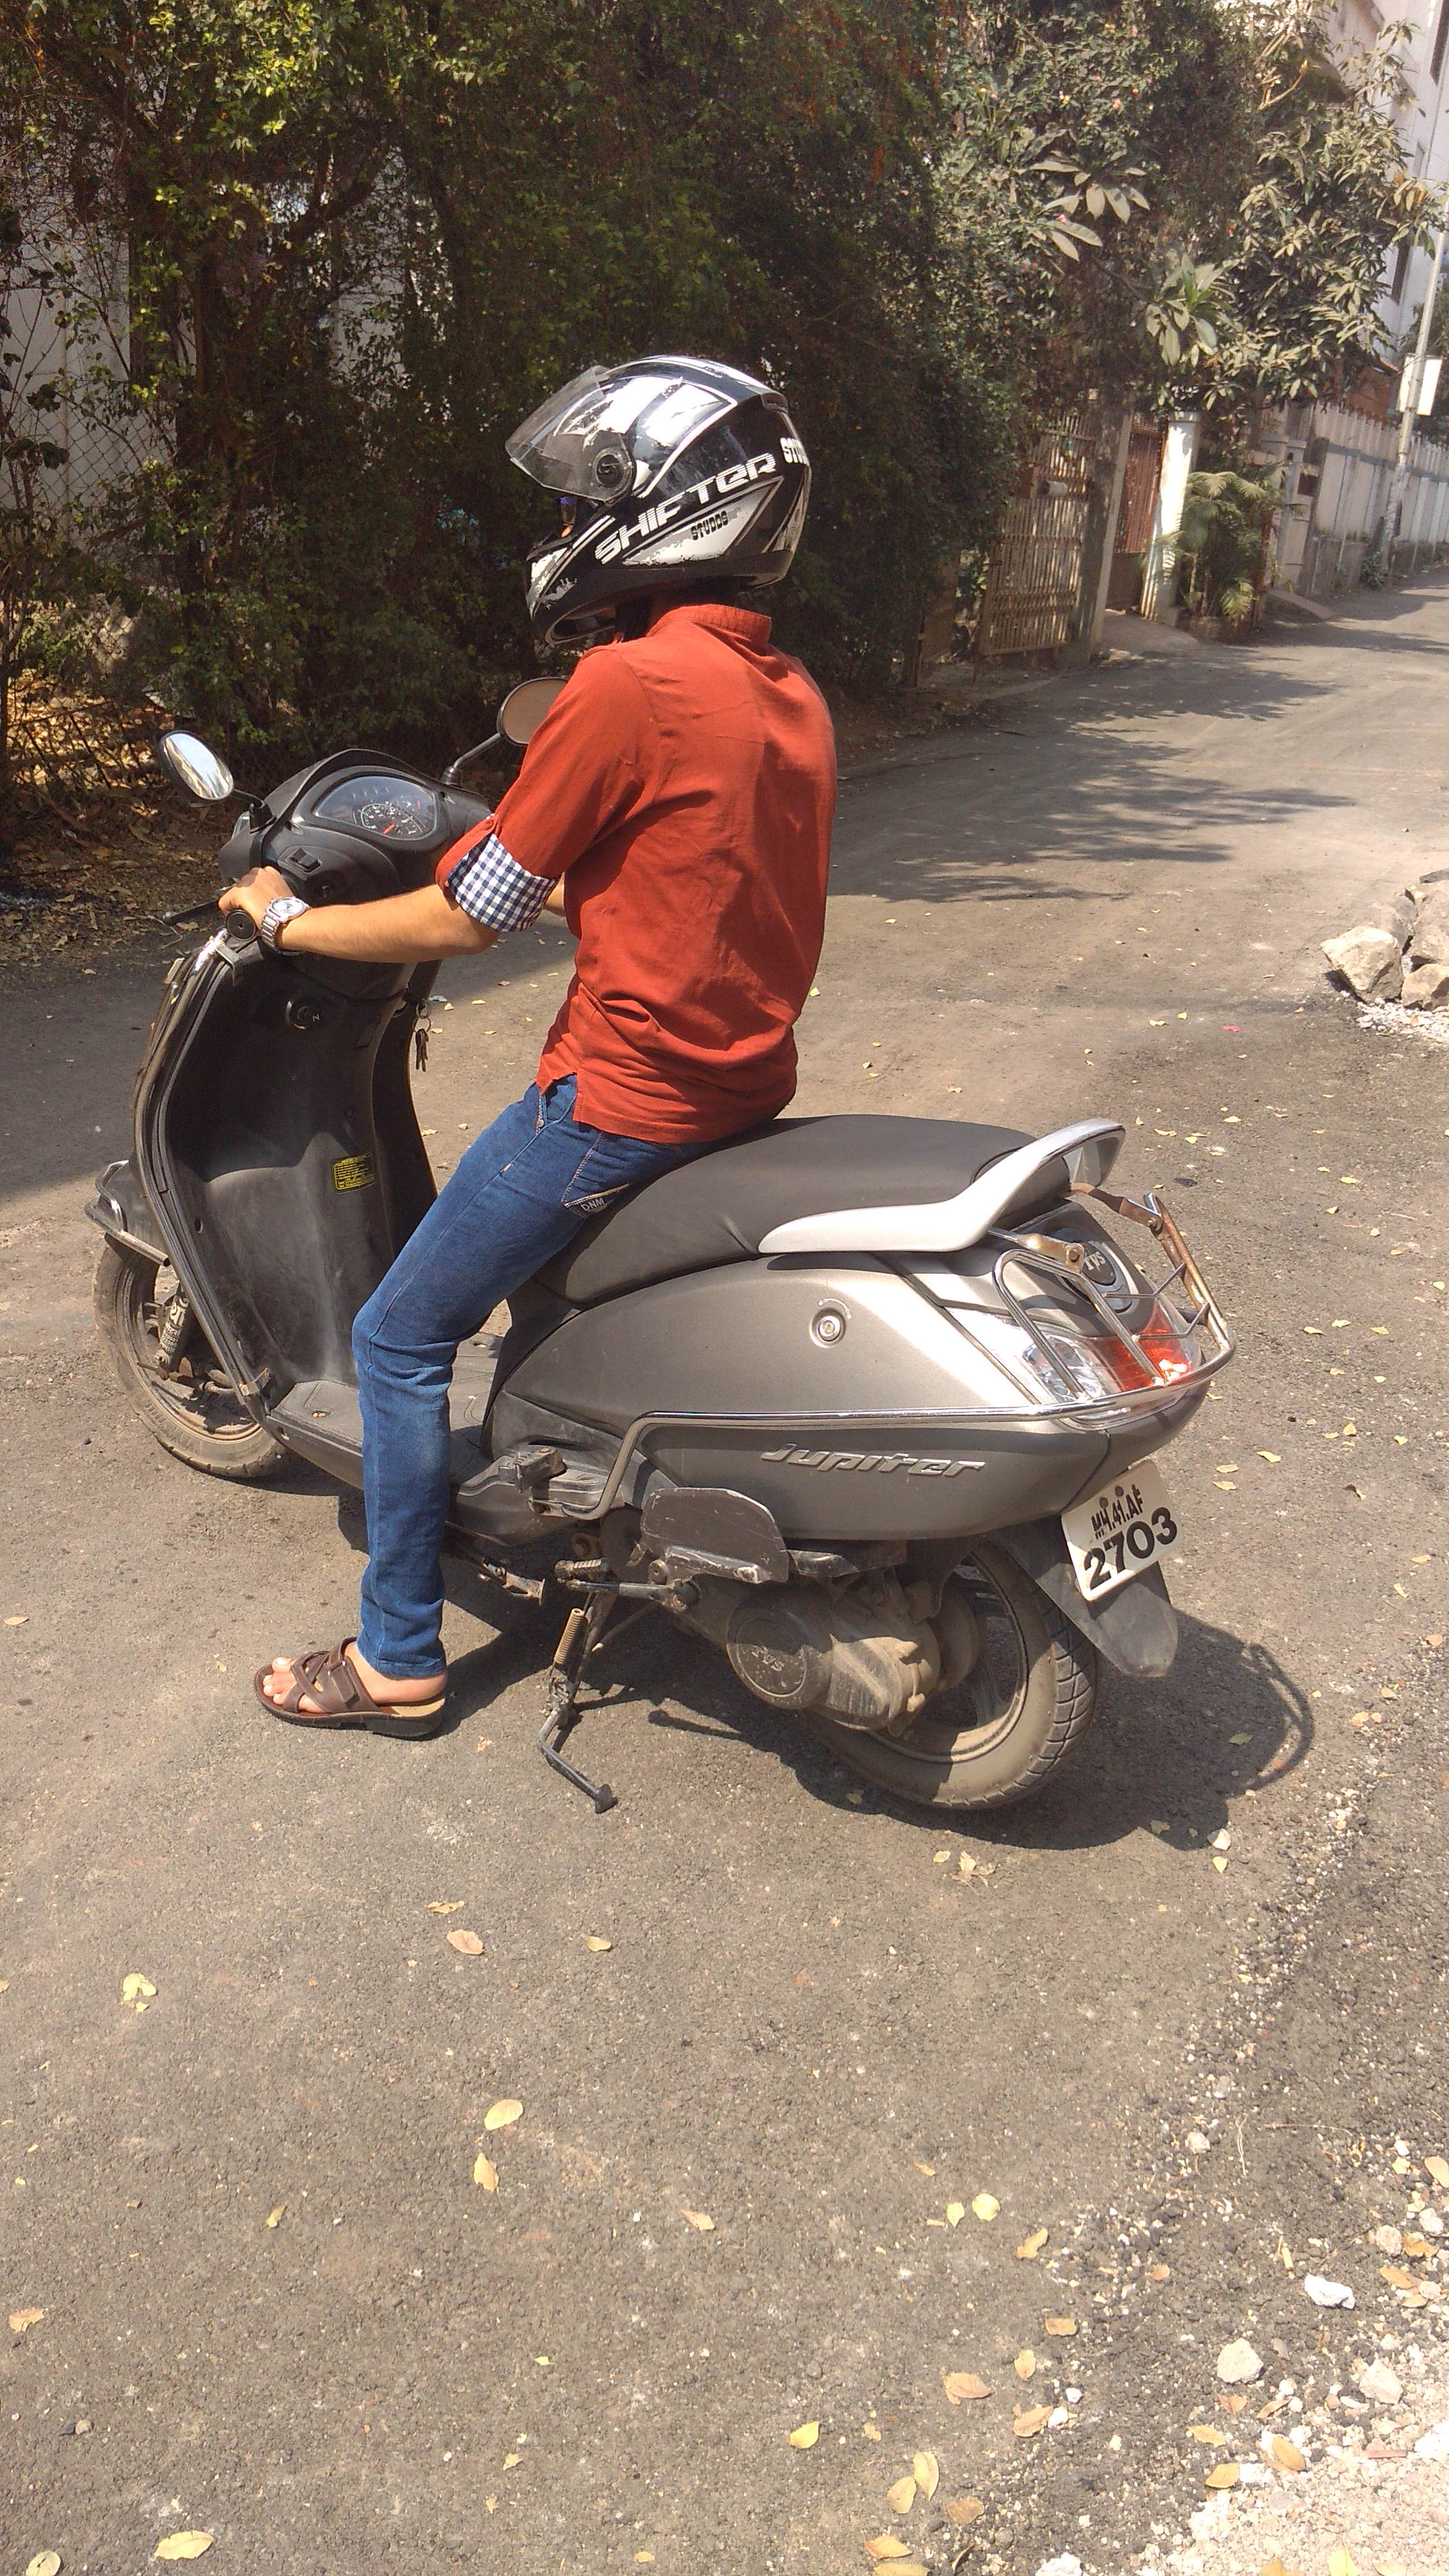helmet: (402, 338, 968, 1247)
